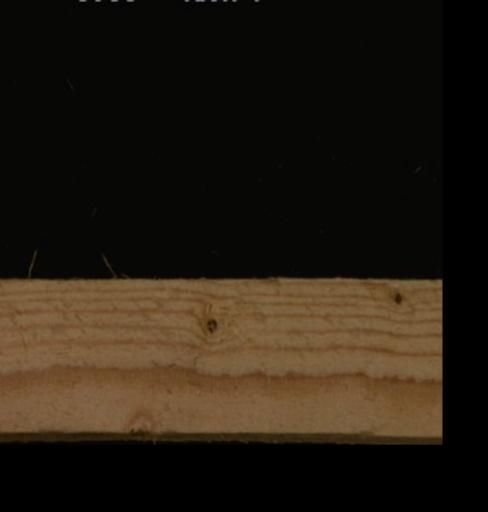edge_knot: (122, 406, 155, 439)
small_knot: (203, 316, 216, 333), (391, 290, 401, 304)
